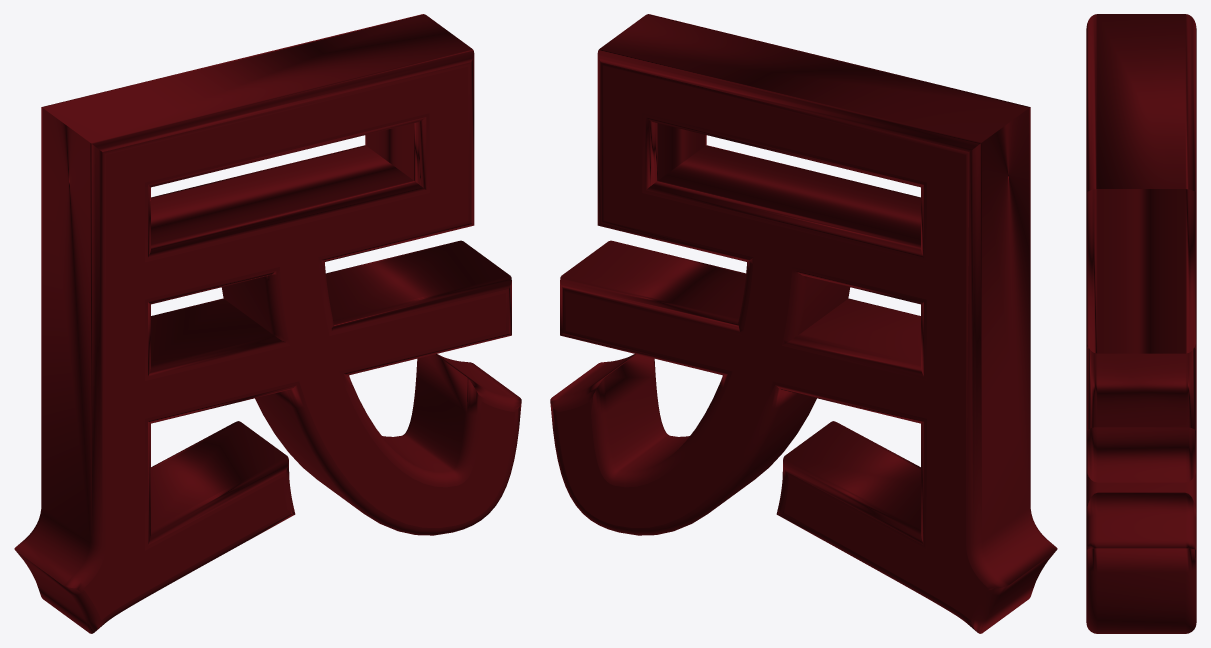
The model's file is MottoMan.fbx.
The picture shows the model from 3 angles, left to right: view 1: azimuth 30°, elevation 25°; view 2: azimuth 150°, elevation 25°; view 3: azimuth 270°, elevation 25°; orthographic projection. The views are drawn at different scales.
Visible parts, largest first — view 1: 文本.135; view 2: 文本.135; view 3: 文本.135.
Boxes of the visible parts, box(x1,y1,x2,y2) form: 文本.135: box(14, 14, 521, 633); 文本.135: box(550, 14, 1057, 633); 文本.135: box(1086, 14, 1196, 633).
Bounding box in the file's own units: 90.05 × 20 × 92.28.
